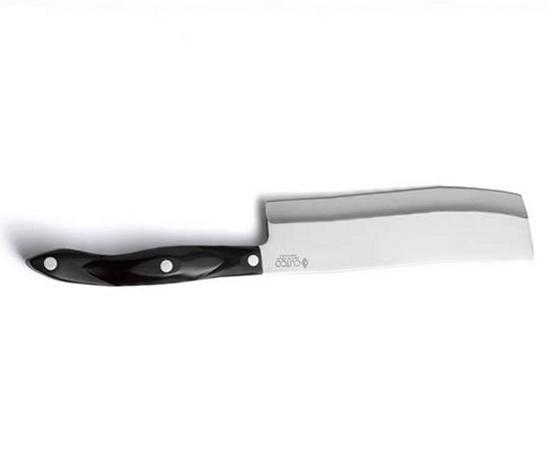knife: (27, 185, 534, 290)
